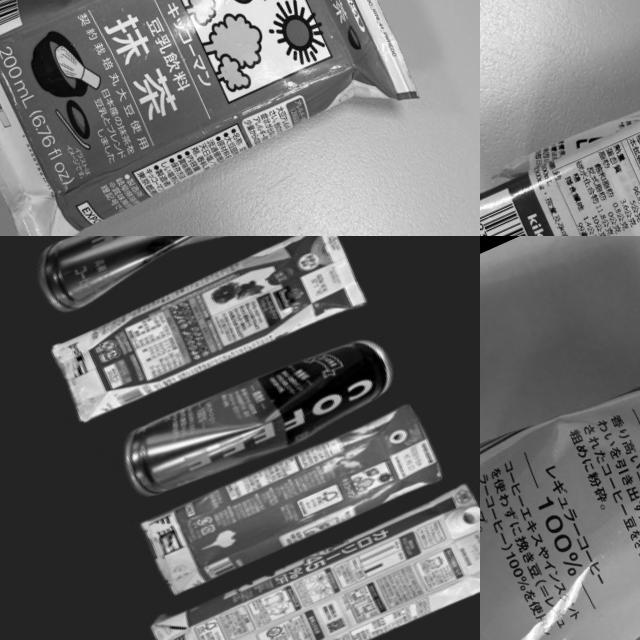Aluminium Foil: (0, 0, 420, 236), (36, 236, 371, 430), (135, 399, 449, 601), (143, 480, 480, 640), (480, 26, 640, 236)
Can: (480, 295, 640, 640), (118, 326, 402, 507), (30, 236, 322, 321)
